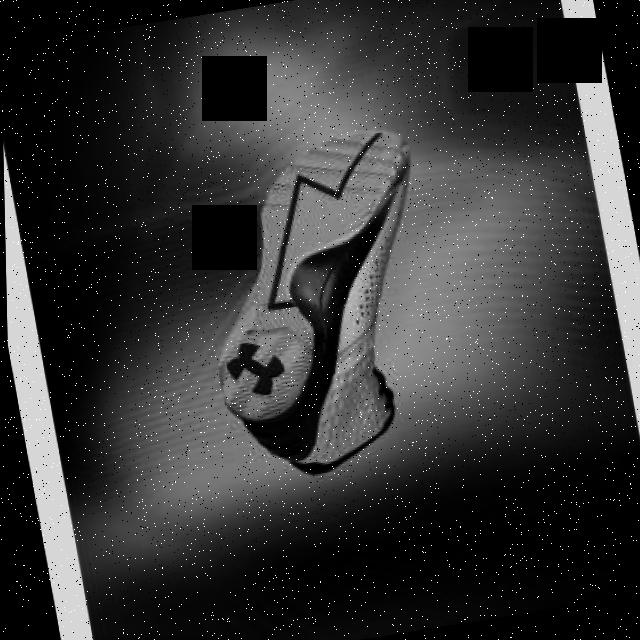shoe: (179, 122, 465, 488)
